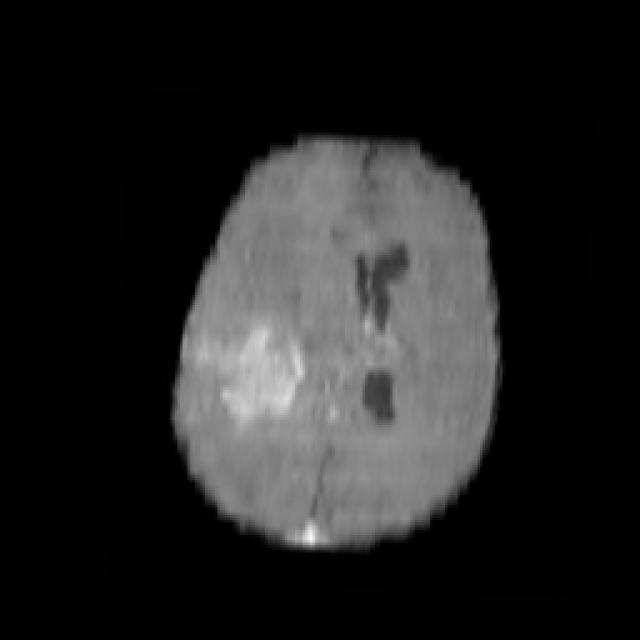negative: (219, 331, 306, 424)
